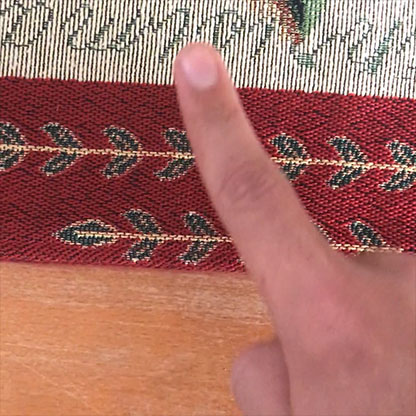fingertip: (161, 32, 248, 110)
